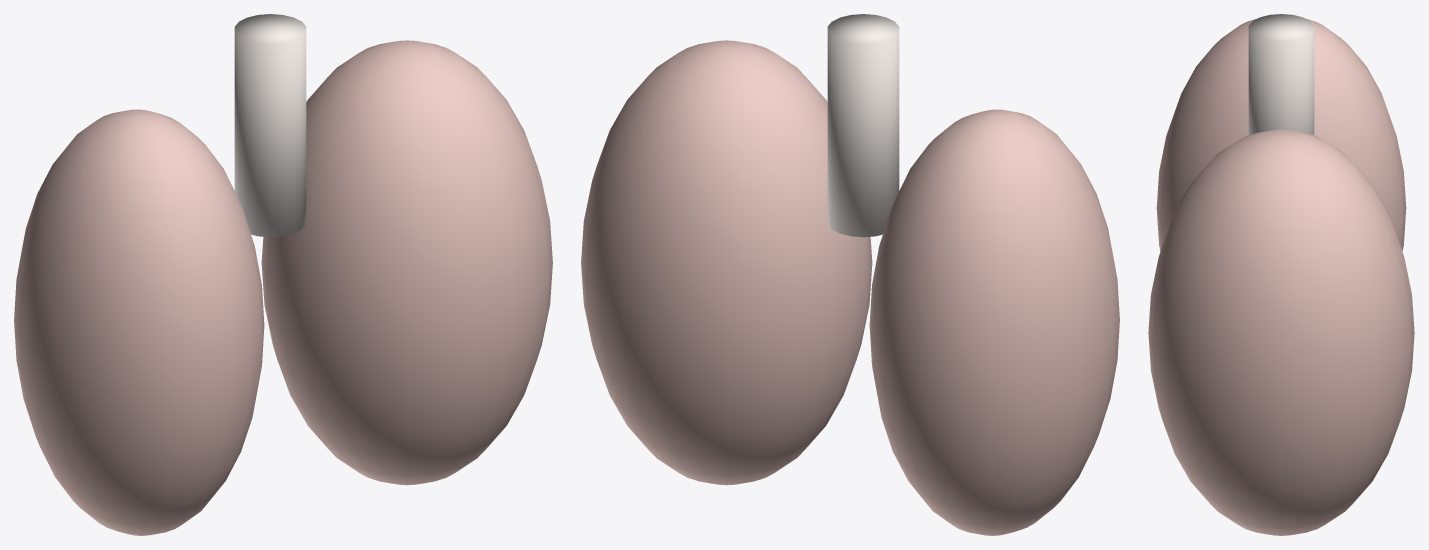
Rendered from human_lungs.glb.
3 views of the same model, side by side, from view 1: azimuth 30°, elevation 25°; view 2: azimuth 150°, elevation 25°; view 3: azimuth 270°, elevation 25° (orthographic). The views are drawn at different scales.
Parts seen in each view (by area): view 1: lung_r, lung_l, trachea; view 2: lung_r, lung_l, trachea; view 3: lung_r, lung_l, trachea.
Boxes of the visible parts, x1,y1,x2,y2 form: lung_r: (261,40,552,485); lung_l: (14,109,264,535); trachea: (234,14,306,237); lung_r: (581,40,872,485); lung_l: (869,109,1119,535); trachea: (827,14,899,237); lung_r: (1148,129,1414,535); lung_l: (1156,19,1406,250); trachea: (1248,14,1314,134).
Bounding box in the file's own units: 1.9 × 1.75 × 0.96.
